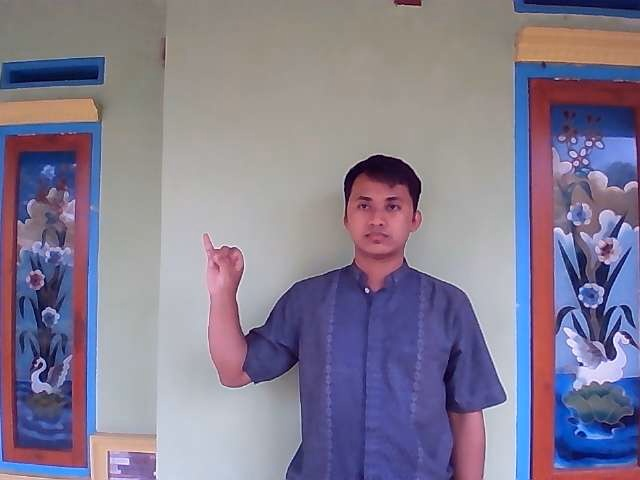I: (193, 228, 253, 304)
